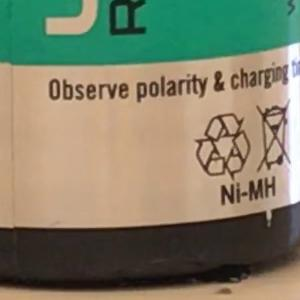keyword: (211, 166, 285, 215)
